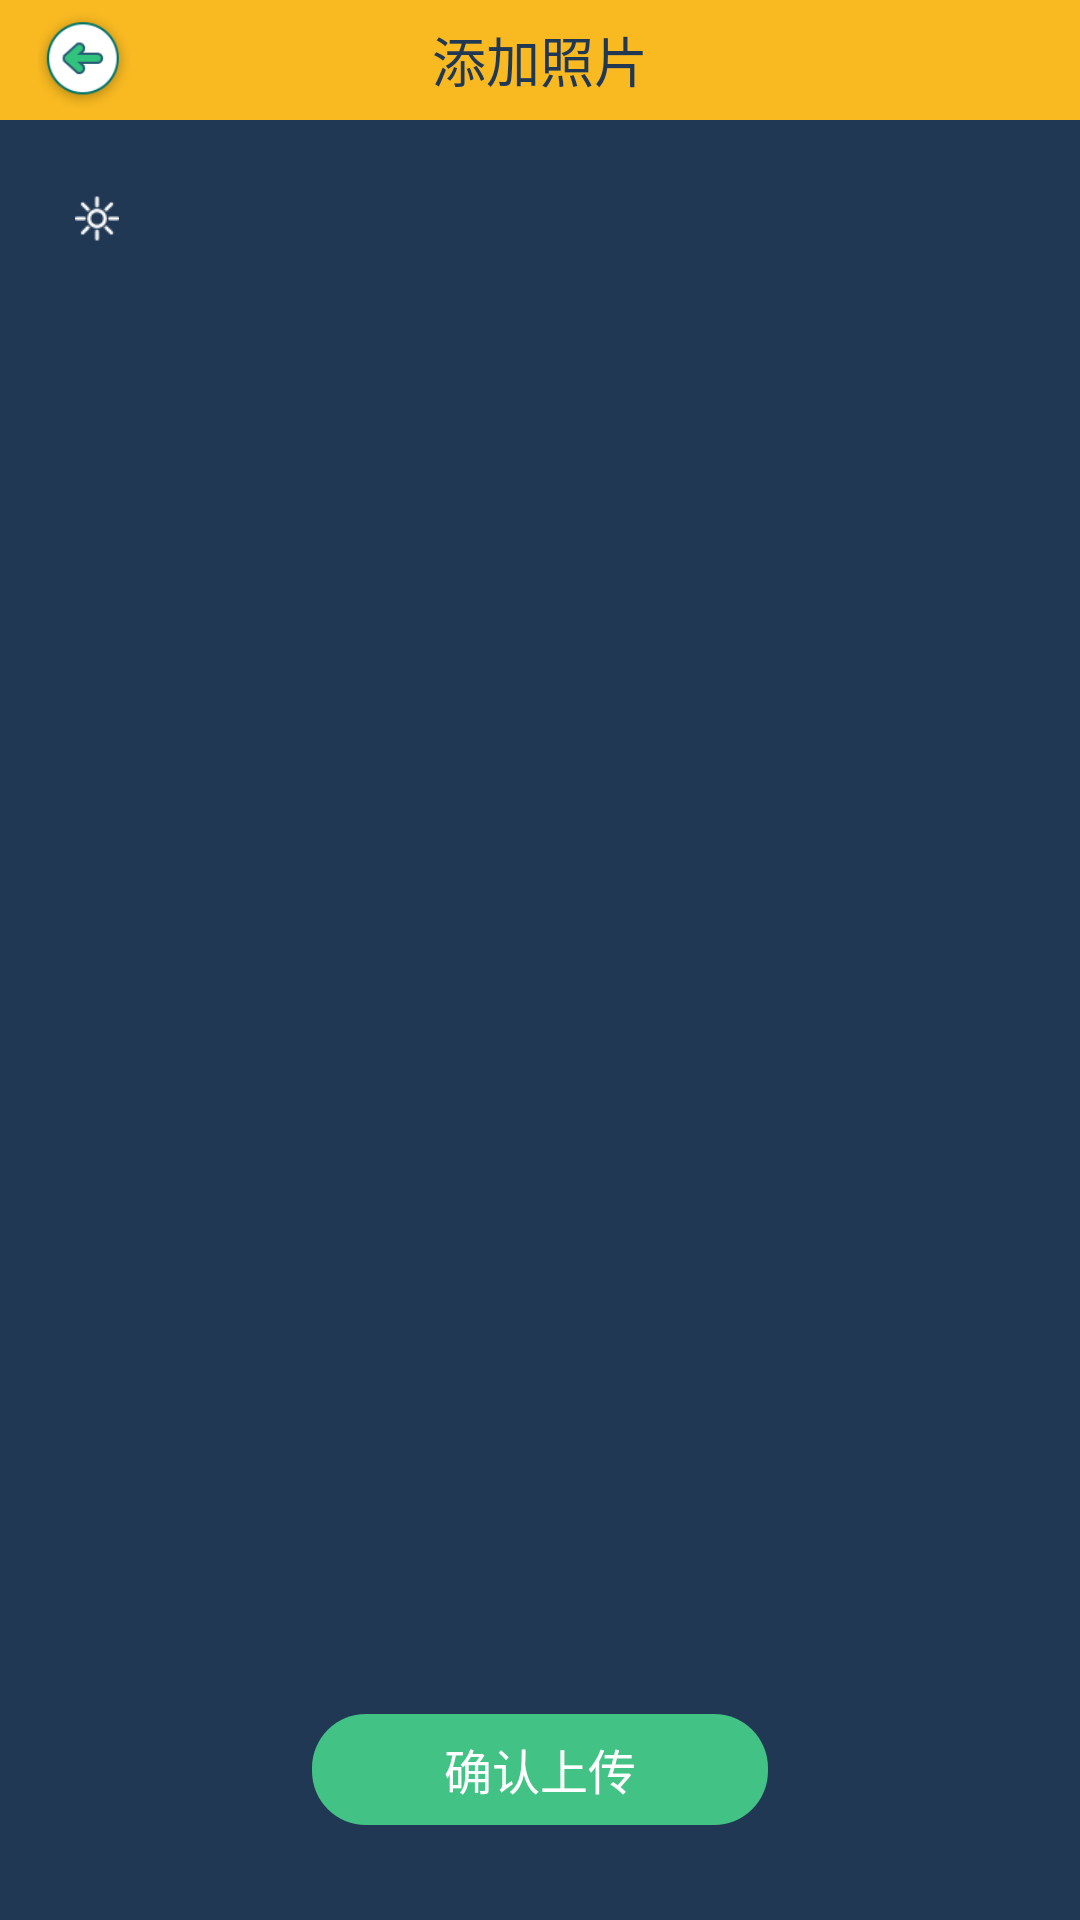

Screen size 1080*1920. Icon name, then its center in pixels as (x=x, y=y):
back: (x=83, y=60)
